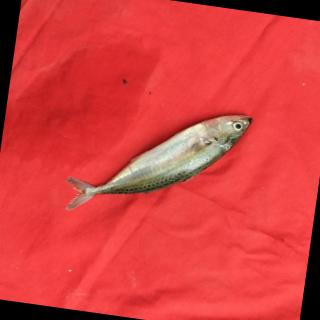Ikan: (46, 70, 263, 240)
